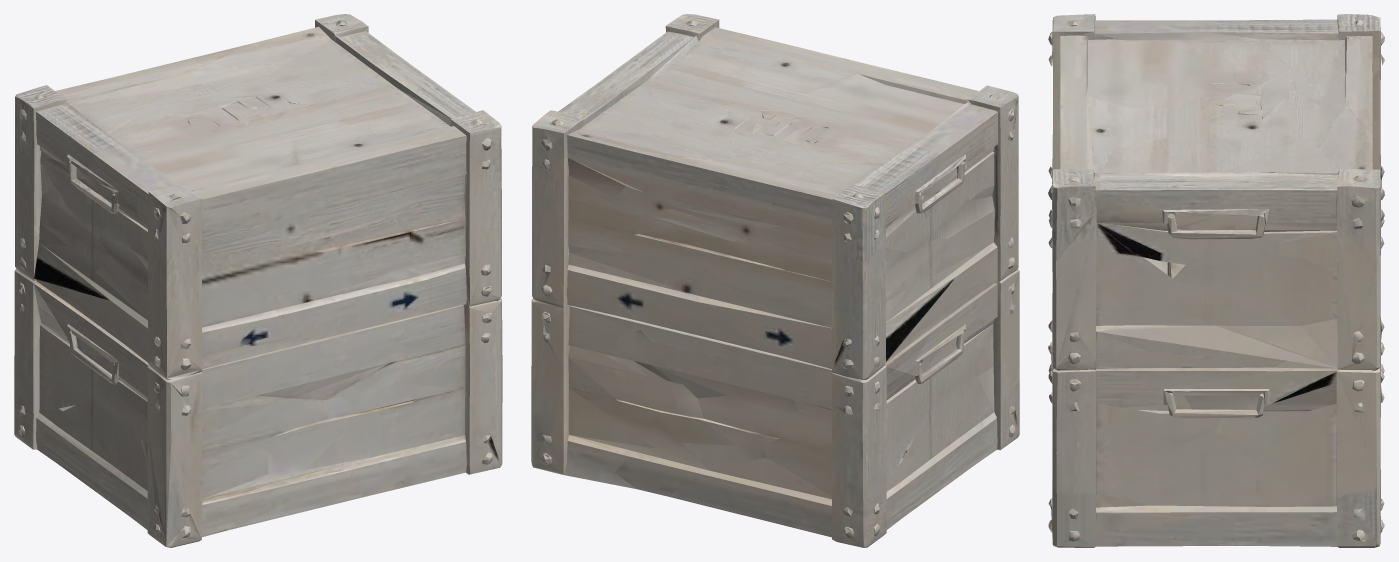
File: prop_crates.glb
3 renders of one model, left to right at view 1: azimuth 30°, elevation 25°; view 2: azimuth 150°, elevation 25°; view 3: azimuth 270°, elevation 25°, orthographic. The views are drawn at different scales.
Size of the model in its own units: 1.9 by 1.83 by 1.53.
1 material, 1 textured.
